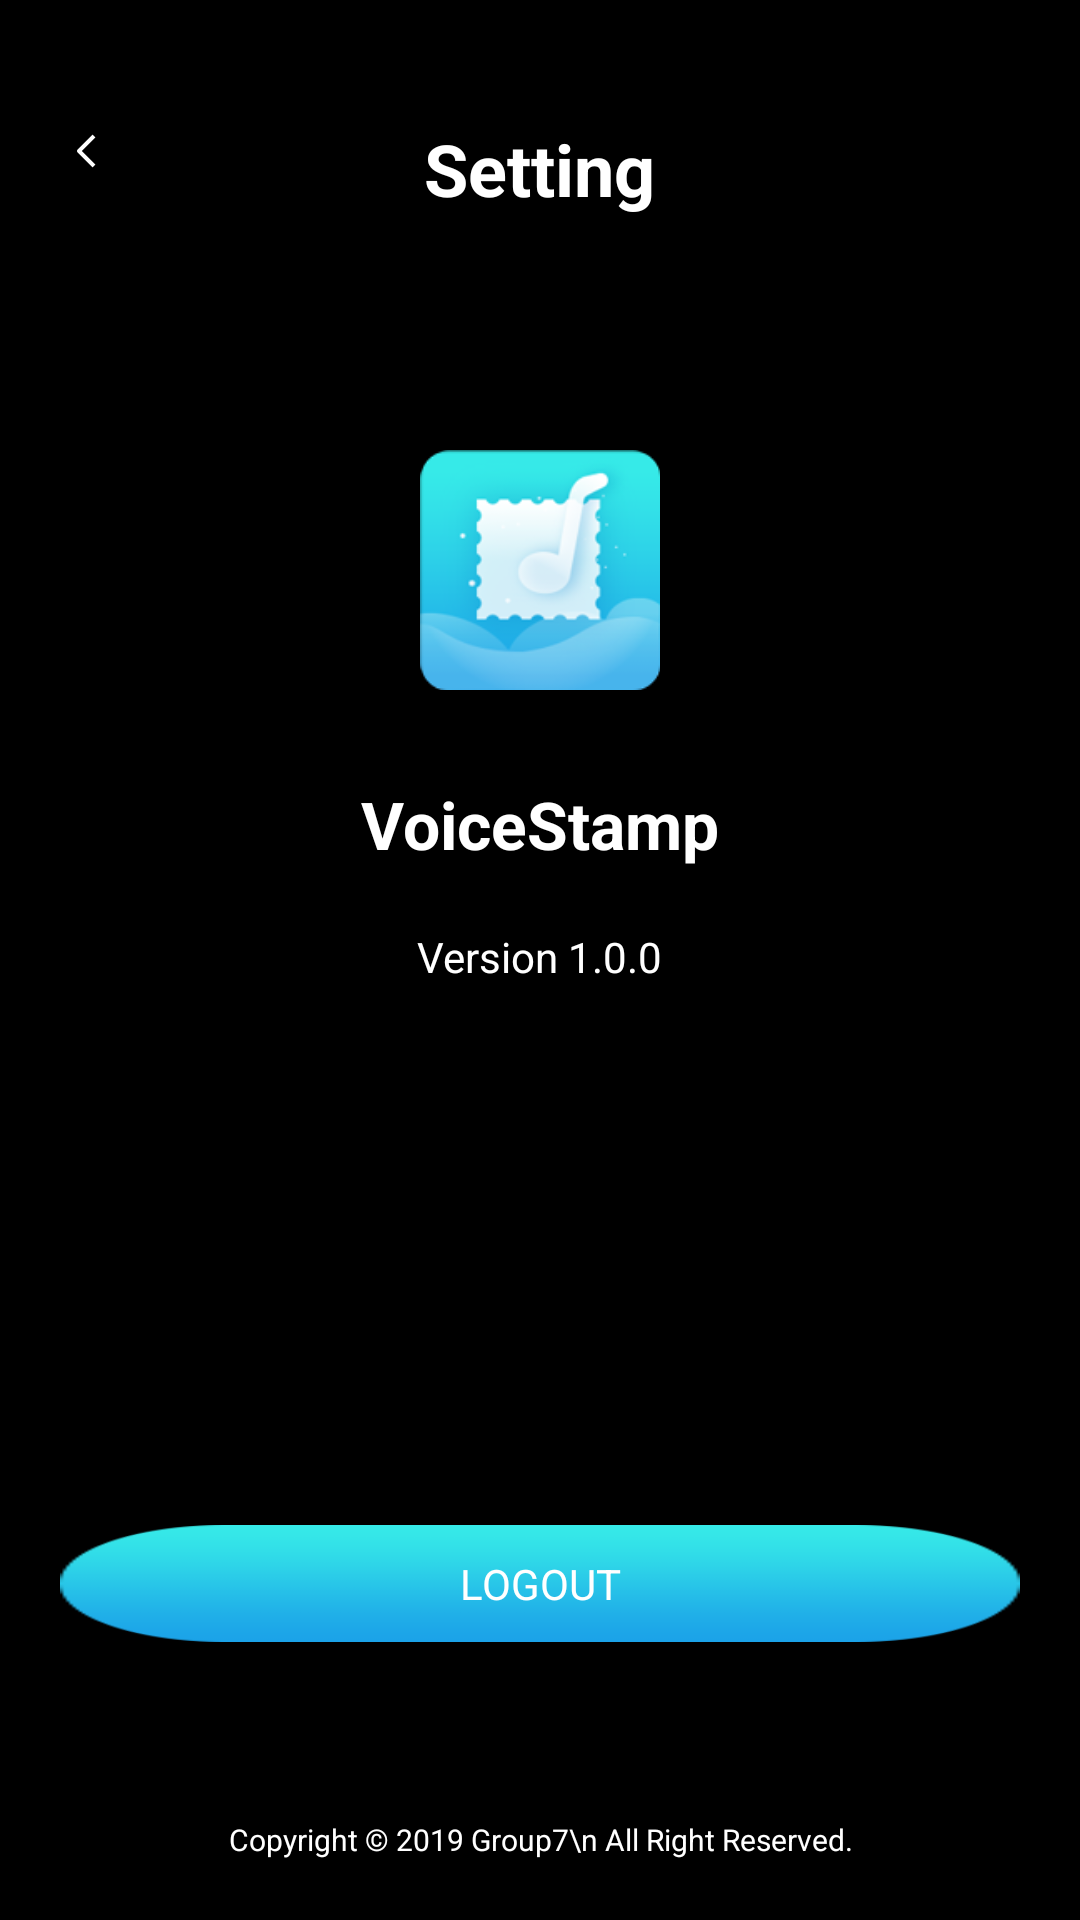

Where to tap for icons on this 1080x1920 app screen, as (x,y):
back arrow: (86,151)
